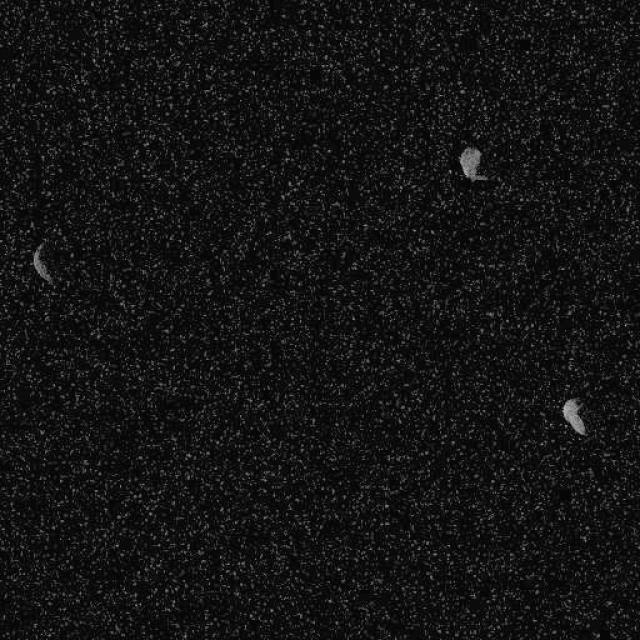D2: (560, 396, 588, 436), (458, 144, 488, 181), (32, 239, 56, 285)
